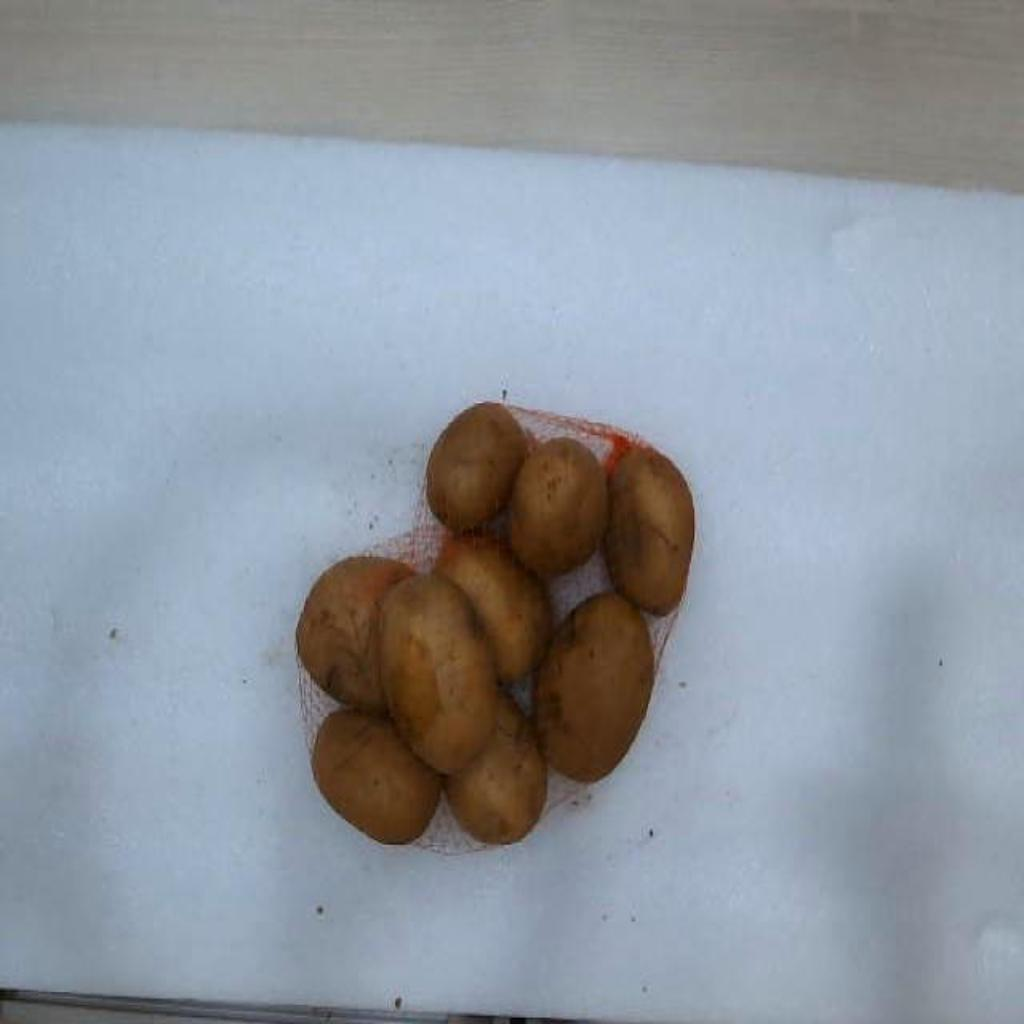potato: (380, 576, 498, 772), (536, 592, 654, 780), (296, 557, 414, 713), (312, 709, 440, 844), (434, 533, 550, 680), (446, 693, 546, 844), (606, 448, 694, 615), (510, 437, 608, 575), (428, 403, 528, 529)
